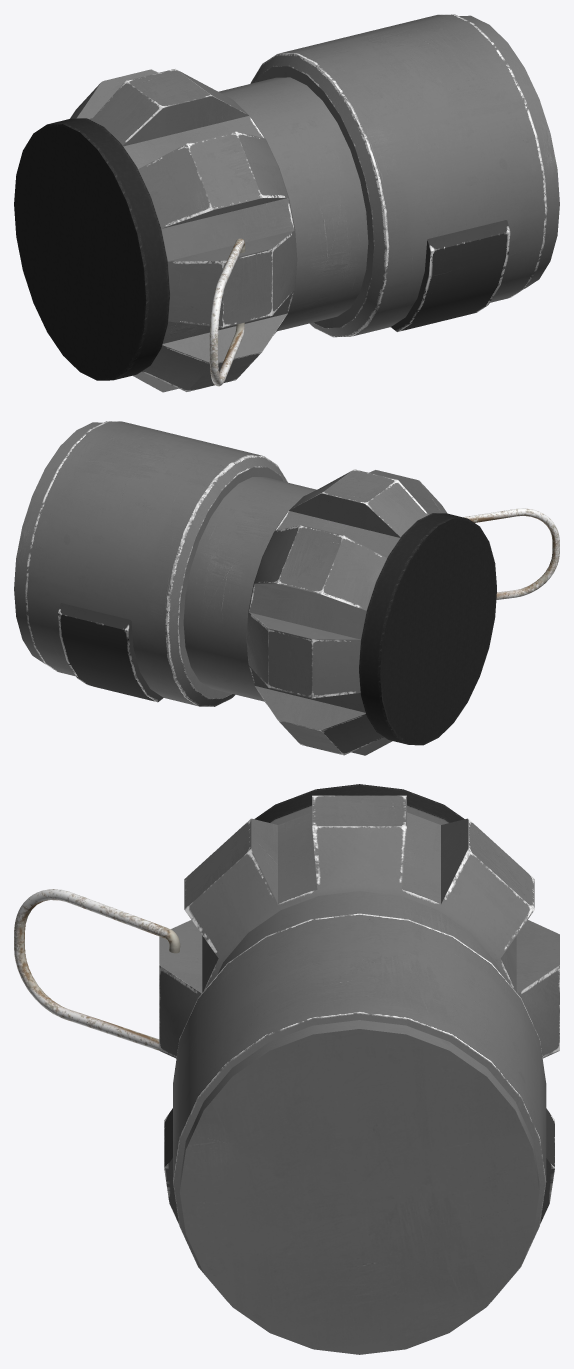
Rendered from pommel_20_r_a.glb.
3 renders of one model, top to bottom at view 1: azimuth 30°, elevation 25°; view 2: azimuth 150°, elevation 25°; view 3: azimuth 270°, elevation 25°, orthographic. The views are drawn at different scales.
Visible parts, largest first — view 1: pommel_20_r_a_lod0; view 2: pommel_20_r_a_lod0; view 3: pommel_20_r_a_lod0.
Part boxes in pixels (<box>): pommel_20_r_a_lod0: <box>14,14,559,392</box>; pommel_20_r_a_lod0: <box>14,421,559,755</box>; pommel_20_r_a_lod0: <box>14,784,559,1354</box>.
Size of what is drawn, in the model's own units: 0.0502 by 0.0331 by 0.045.
Materials: 1 (1 with a texture image).
